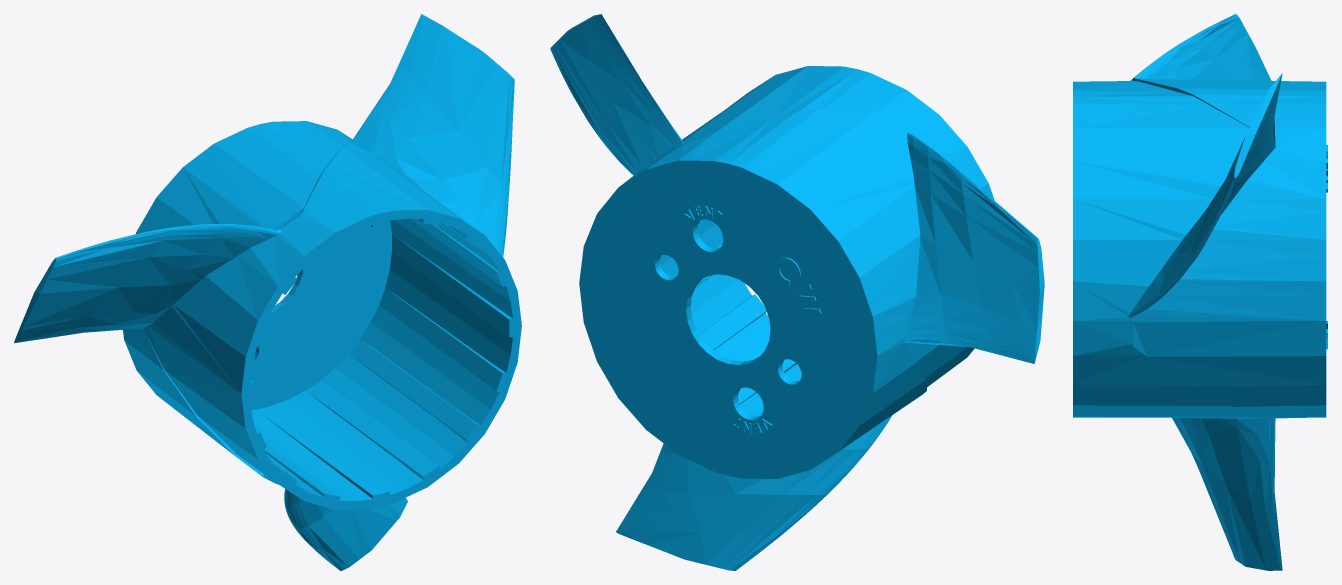
Rendered from T200_05_T200STEP_T200STEPSTEP_T200STEP1_T200STEP1.obj.
3 renders of one model, left to right at view 1: azimuth 30°, elevation 25°; view 2: azimuth 150°, elevation 25°; view 3: azimuth 270°, elevation 25°, orthographic. The views are drawn at different scales.
Bounding box in the file's own units: 0.0682 × 0.0702 × 0.0302.
